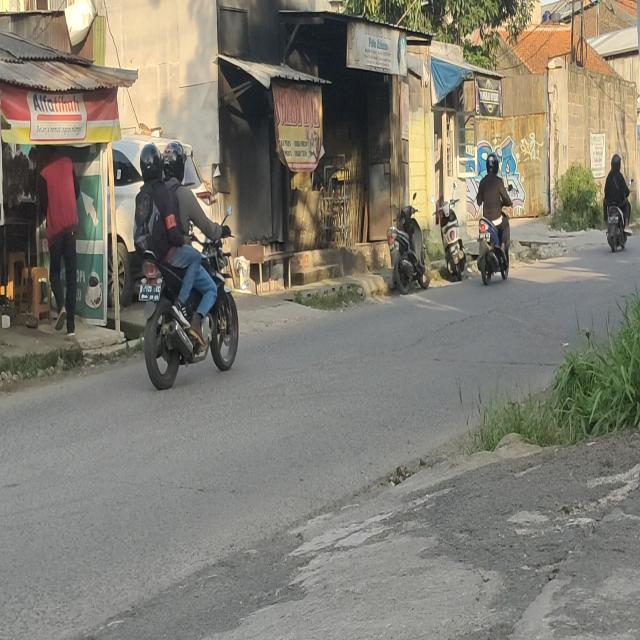helmet: (163, 139, 188, 181), (140, 142, 163, 181), (486, 154, 500, 176), (611, 153, 622, 173)
